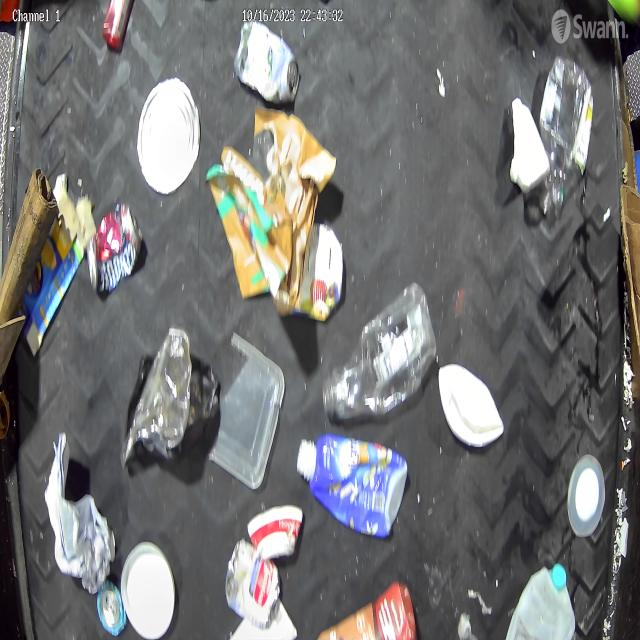can: (85, 202, 144, 295), (234, 19, 299, 103), (224, 538, 280, 629), (95, 582, 126, 640)
milk_jug: (507, 562, 579, 640)
non_white_jug: (297, 434, 405, 541), (314, 579, 419, 640)
plastic_bottle: (327, 283, 435, 419), (538, 61, 592, 212)
